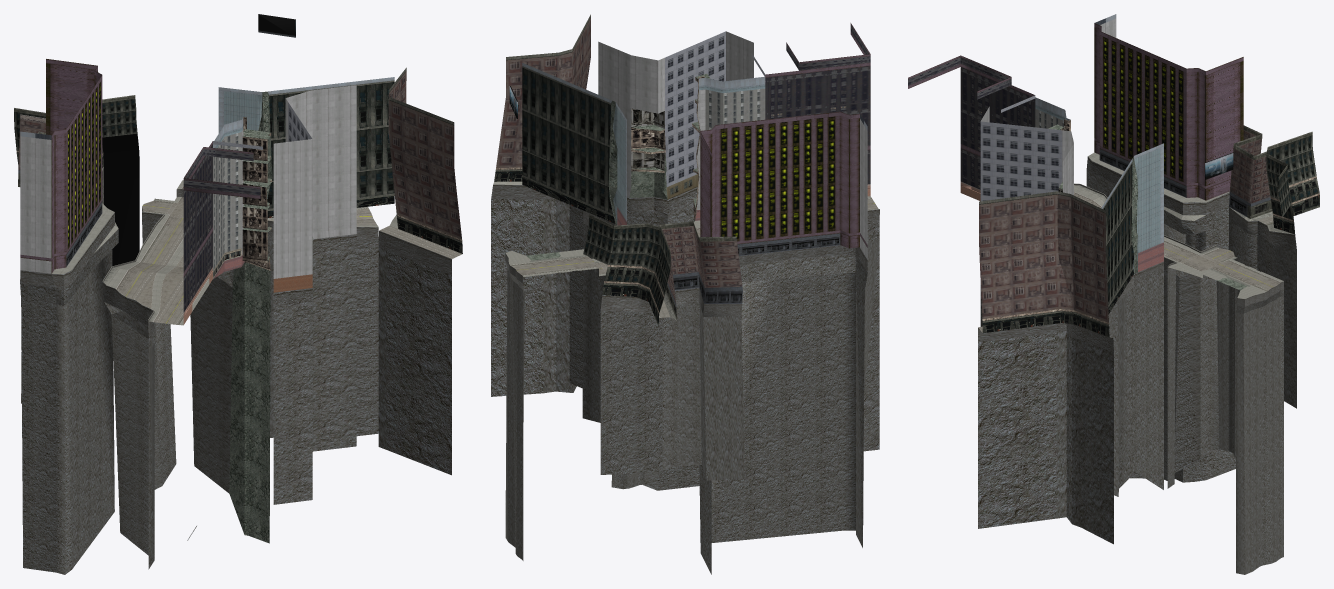
Rendered from STG0100_OS_14.fbx.
3 renders of one model, left to right at view 1: azimuth 30°, elevation 25°; view 2: azimuth 150°, elevation 25°; view 3: azimuth 270°, elevation 25°, orthographic. The views are drawn at different scales.
Parts seen in each view (by area): view 1: STG0100_OS_14_default; view 2: STG0100_OS_14_default; view 3: STG0100_OS_14_default.
Boxes of the visible parts, bbox=[...] form: STG0100_OS_14_default: bbox=[14, 14, 462, 574]; STG0100_OS_14_default: bbox=[491, 14, 879, 574]; STG0100_OS_14_default: bbox=[908, 14, 1319, 574].
Bounding box in the file's own units: 2002 × 2200 × 1951.
